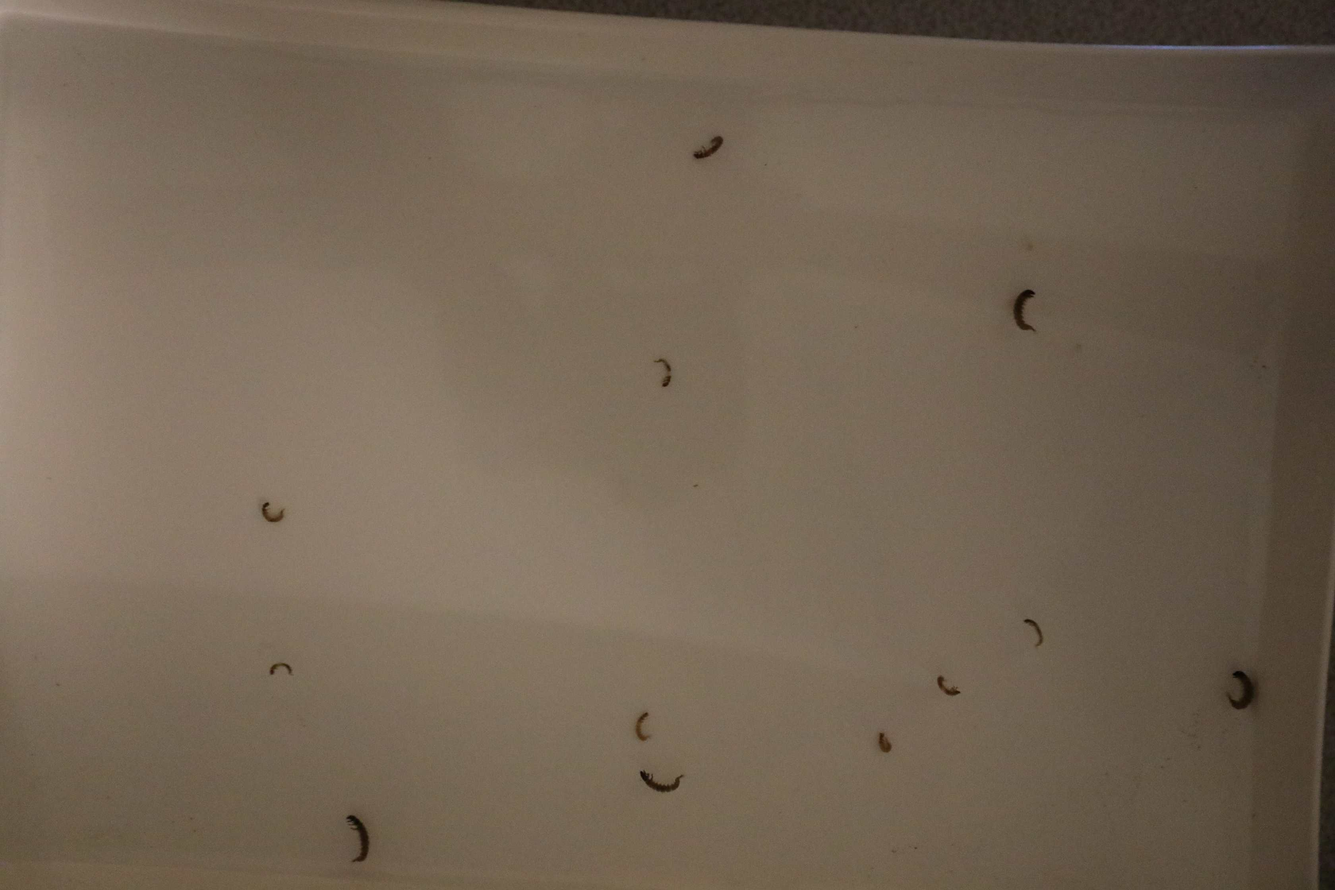Cadisfly: (1006, 284, 1044, 338), (340, 809, 373, 867), (1224, 667, 1260, 718), (637, 768, 689, 798), (687, 130, 728, 167), (266, 656, 304, 687), (623, 708, 656, 743), (1025, 614, 1053, 654), (652, 353, 682, 388), (931, 672, 963, 703), (254, 497, 282, 527), (873, 731, 895, 756)
